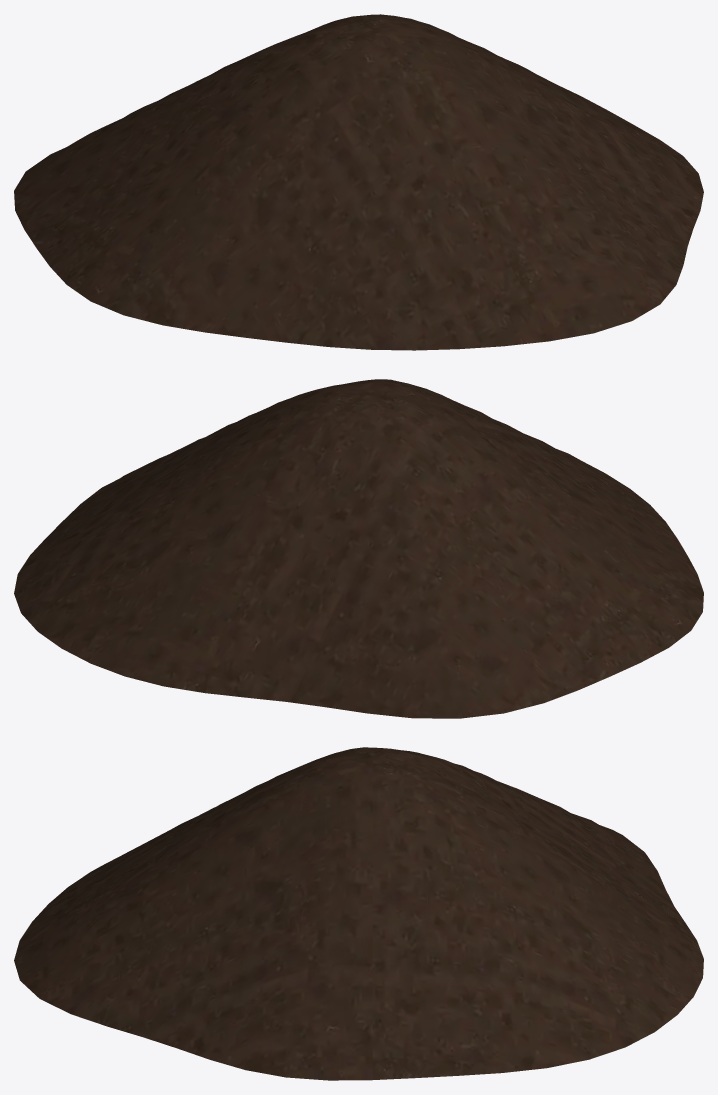
The model's file is PAV-PAI-003_lod1.glb.
The picture shows the model from 3 angles, top to bottom: view 1: azimuth 30°, elevation 25°; view 2: azimuth 150°, elevation 25°; view 3: azimuth 270°, elevation 25°; orthographic projection.
Parts seen in each view (by area): view 1: PAV-PAI-003_monte; view 2: PAV-PAI-003_monte; view 3: PAV-PAI-003_monte.
Part boxes in pixels (x1,y1,x2,y2): PAV-PAI-003_monte: (14,14,703,350); PAV-PAI-003_monte: (14,379,703,718); PAV-PAI-003_monte: (14,747,703,1080).
Bounding box in the file's own units: 1.76 × 0.5107 × 1.79.
1 material, 1 textured.
